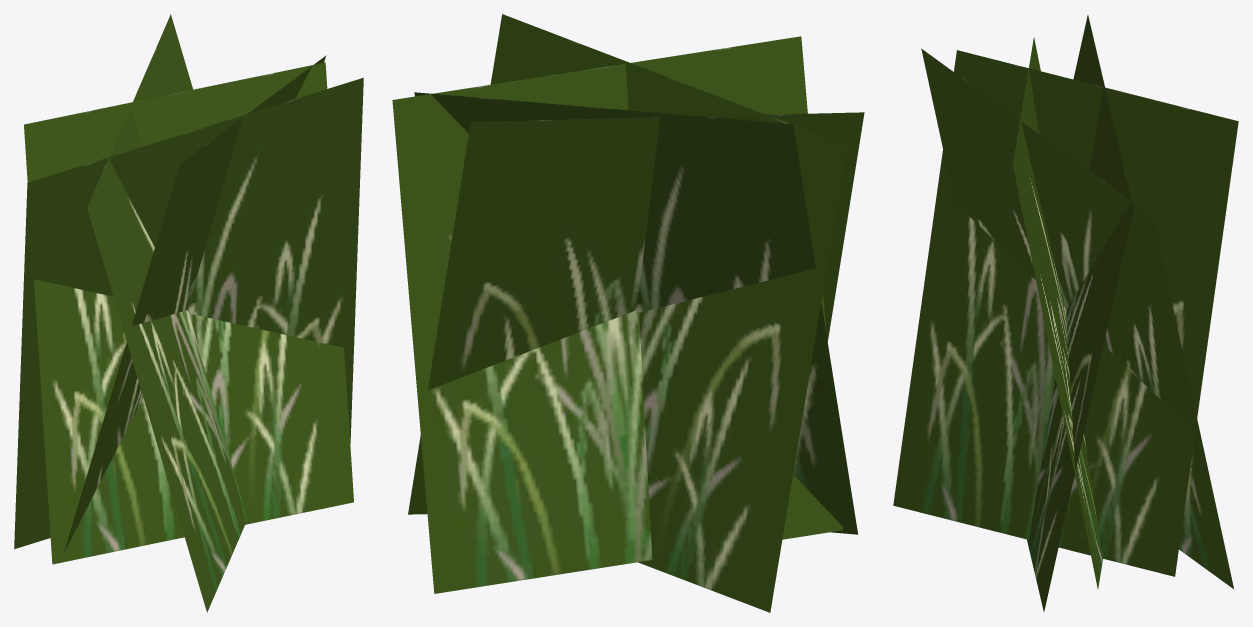
File: reeds.glb
3 views of the same model, side by side, from view 1: azimuth 30°, elevation 25°; view 2: azimuth 150°, elevation 25°; view 3: azimuth 270°, elevation 25° (orthographic). The views are drawn at different scales.
Parts seen in each view (by area): view 1: reeds; view 2: reeds; view 3: reeds.
Part boxes in pixels (left/top/right/bottom): reeds: left=14, top=14, right=363, bottom=612; reeds: left=392, top=14, right=864, bottom=612; reeds: left=893, top=15, right=1238, bottom=611.
Size of the model in its own units: 1.9 by 2.24 by 1.56.
Materials: 1 (1 with a texture image).
